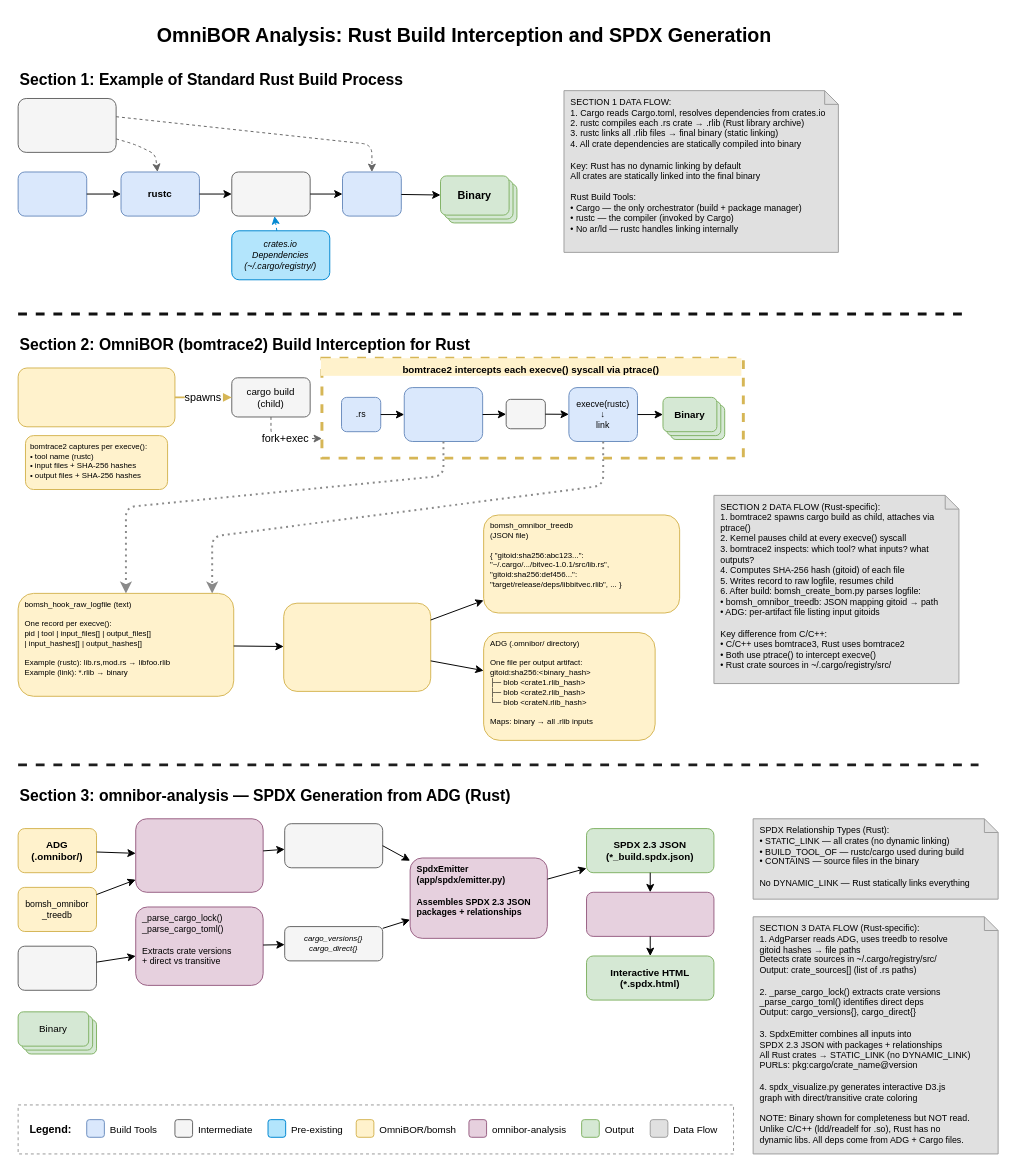
Some shapes in this 1015 by 1171 pixel diagram are drawn without their labels. The shapes that lost their labels are listed below. From the top down, each one's centre as x and y in pixels, then its label:
At (x=66, y=125): "Cargo (orchestrator + package manager)".
At (x=52, y=193): "Source (.rs)".
At (x=270, y=193): ".rlib files".
At (x=371, y=193): "rustc (link)".
At (x=96, y=397): "bomtrace2 (parent process) ptrace(PTRACE_TRACEME)".
At (x=443, y=414): "execve(rustc) ↓ rustc".
At (x=525, y=413): ".rlib".
At (x=357, y=646): "bomsh_create_bom.py (Python script) Parses raw logfile, builds dependency graph".
At (x=199, y=855): "AdgParser (app/spdx/parser.py) Reads ADG, resolves gitoids → file paths".
At (x=333, y=845): "crate_sources[] (.rs paths from ~/.cargo/registry/)".
At (x=650, y=913): "spdx_visualize.py (D3.js generator)".
At (x=57, y=967): "Cargo.lock Cargo.toml".
